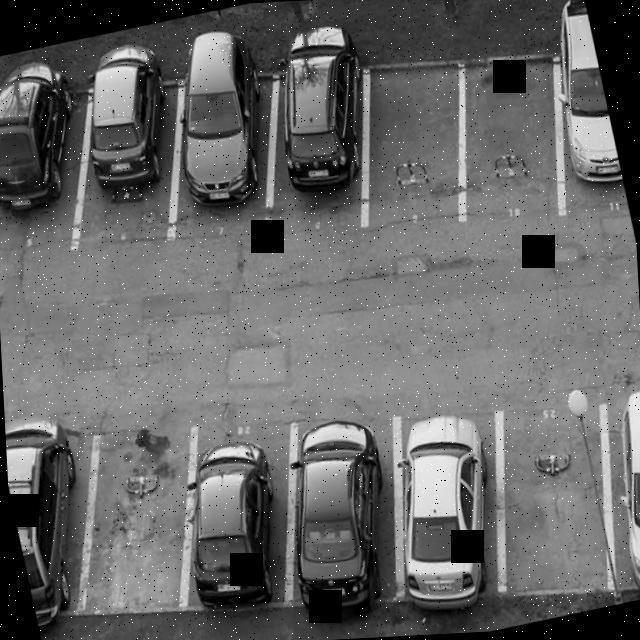car: (269, 398, 414, 622), (474, 386, 630, 594), (59, 422, 210, 634), (359, 387, 505, 600), (160, 400, 306, 612), (157, 52, 283, 240), (258, 38, 377, 234), (446, 36, 564, 232), (351, 47, 471, 231), (64, 62, 182, 244), (4, 407, 102, 622), (0, 64, 90, 247), (544, 25, 626, 211), (577, 369, 640, 603), (0, 84, 4, 257)
